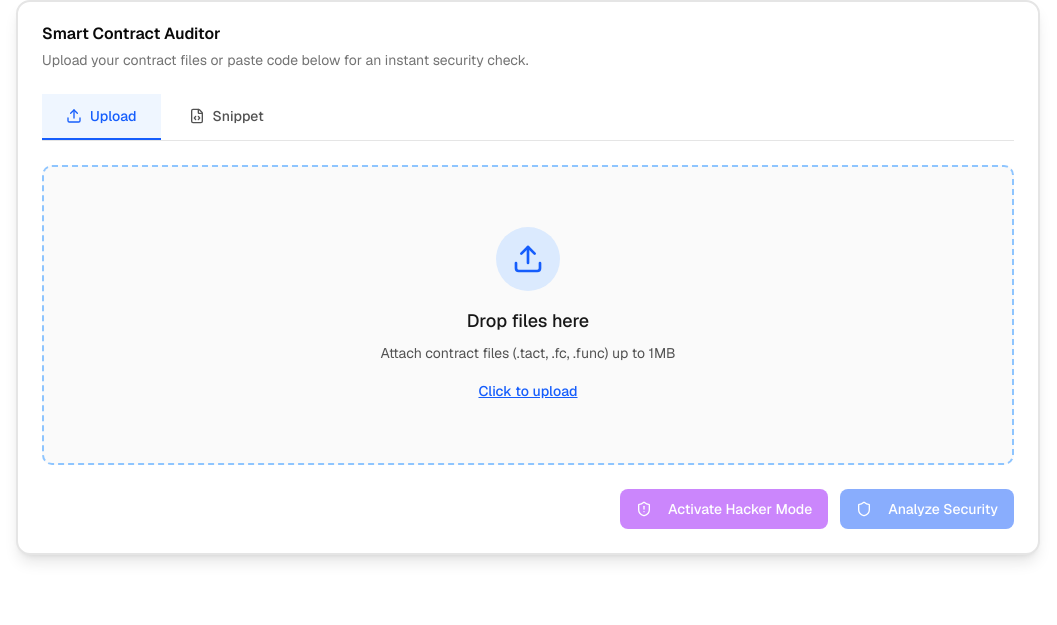
Test: CodeAnalyzer › switches to snippet tab and shows textarea
The image size is (1057, 625).
Click the button "Snippet" at (226, 117), box [165,94,288,140]
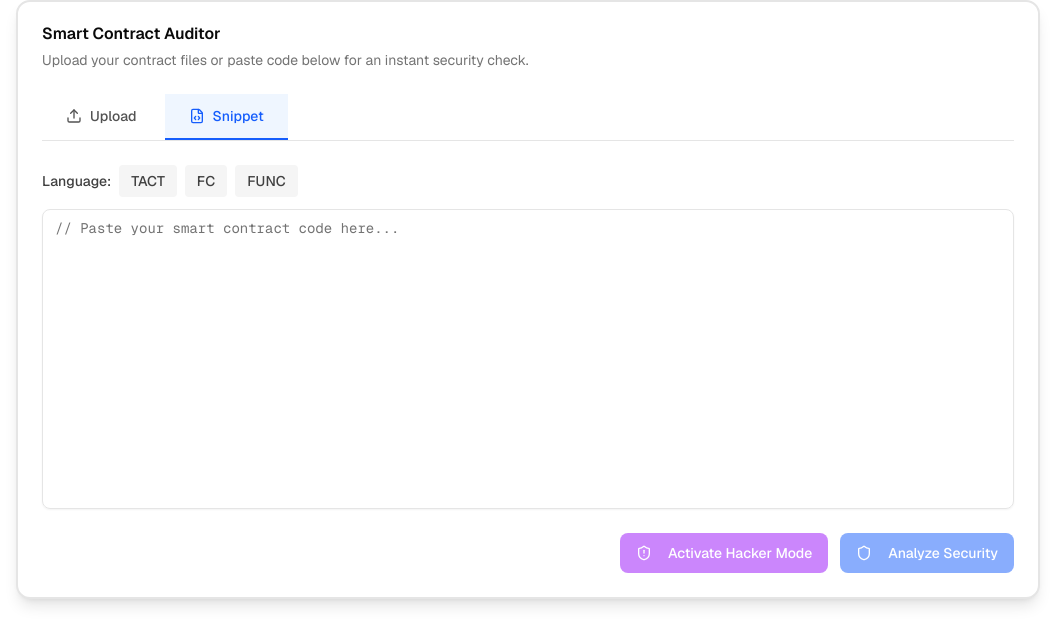
Expected: the text box with placeholder "// Paste your smart contract code here..." is shown, [42,209,1014,509]
